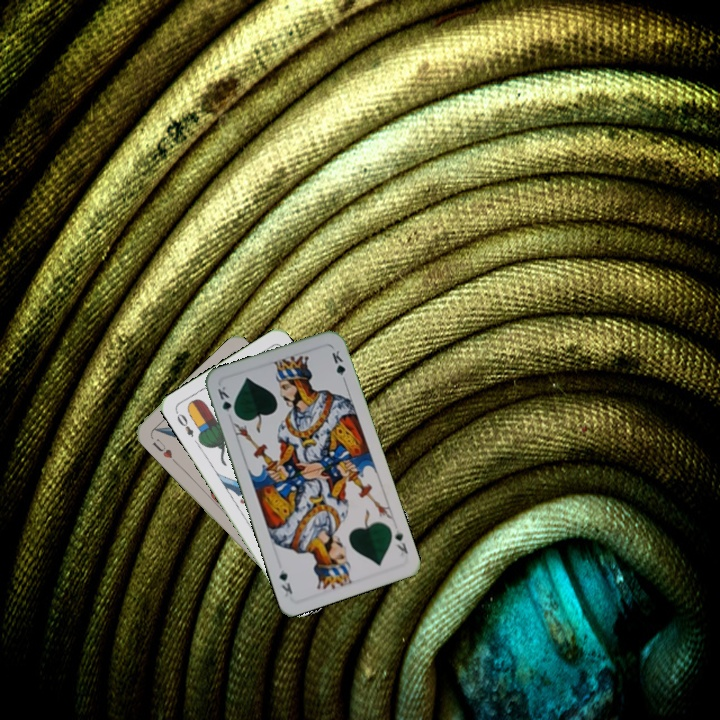EO: (172, 407, 196, 440)
GK: (213, 382, 239, 419), (391, 526, 411, 559)
HU: (148, 434, 175, 461)
